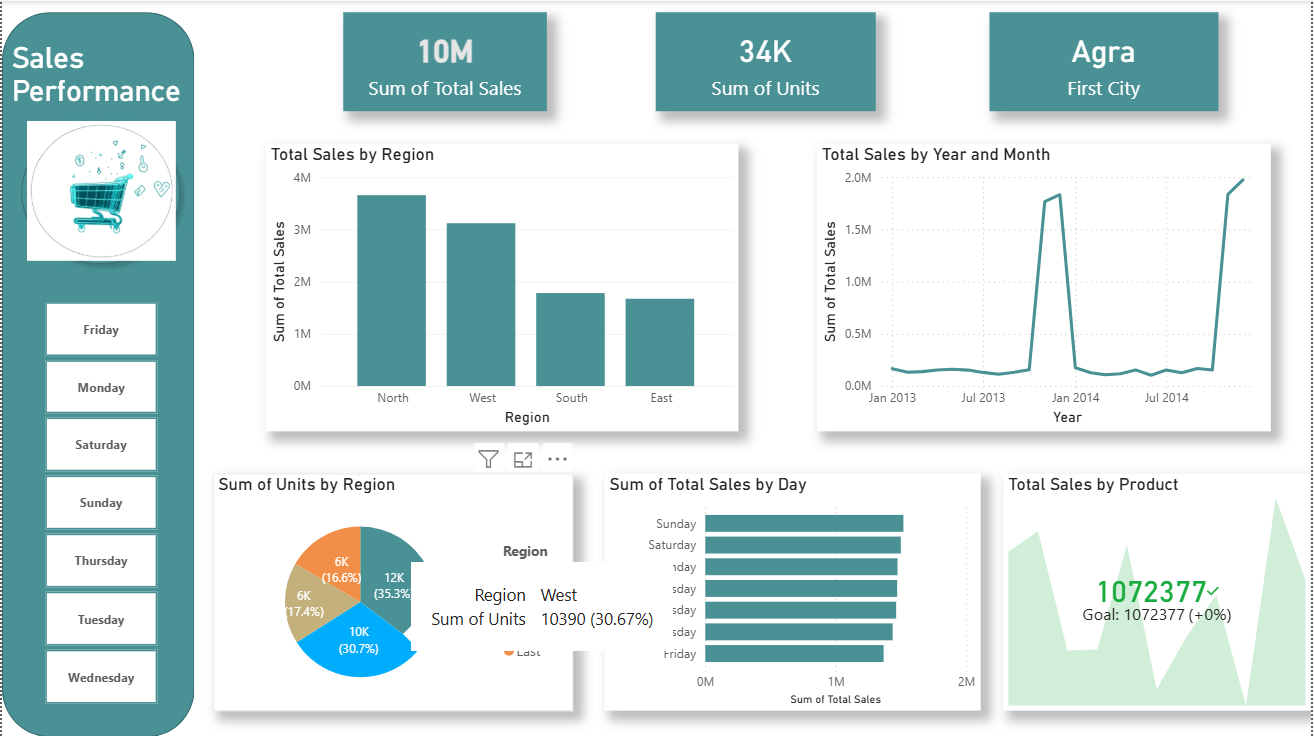

The dashboard page shown, as its layout file describes it:
{"tool":"powerbi","page":{"name":"Page 2","canvas":[1280,720],"ordinal":1},"visuals":[{"type":"columnChart","title":" Total Sales by Region","fields":{"Category":["Sales Data.Region"],"Y":["Sum(Sales Data.Total Sales)"]},"box":[258,139.4,462.2,281.3],"z":0},{"type":"pieChart","fields":{"Y":["Sum(Sales Data.Units)"],"Category":["Sales Data.Region"]},"box":[199.3,462.2,352.2,232.3],"z":1000},{"type":"lineChart","title":"Total Sales by Year and Month","fields":{"Y":["Sum(Sales Data.Total Sales)"],"Category":["Sales Data.Date.Variation.Date Hierarchy.Year","Sales Data.Date.Variation.Date Hierarchy.Month"]},"box":[797.3,139.4,443.9,281.3],"z":2000},{"type":"clusteredBarChart","fields":{"Category":["Sales Data.Day"],"Y":["Sum(Sales Data.Total Sales)"]},"box":[580.8,462.2,368.1,232.3],"z":3000},{"type":"kpi","title":" Total Sales by Product","fields":{"Indicator":["Sum(Sales Data.Total Sales)"],"TrendLine":["Sales Data.Product"],"Goal":["Sum(Sales Data.Total Sales)"]},"box":[966,462.2,300.8,232.3],"z":4000},{"type":"card","fields":{"Values":["Sum(Sales Data.Total Sales)"]},"box":[333.8,11,199.3,96.6],"z":5000},{"type":"card","fields":{"Values":["Sum(Sales Data.Units)"]},"box":[639.5,11,215.2,96.6],"z":6000},{"type":"card","fields":{"Values":["Min(Sales Data.City)"]},"box":[966,11,223.8,96.6],"z":7000},{"type":"shape","box":[0,11,188.3,709.2],"z":8000},{"type":"slicer","title":"DAY","fields":{"Values":["Sales Data.Day"]},"box":[18.3,280,160.2,428],"z":9000},{"type":"shape","title":"Sales Performance","box":[9.8,37.9,173.6,228.7],"z":10000},{"type":"image","box":[24.5,117.4,145.5,137],"z":11000}]}

Visuals, with their boxes in screenshot pixels (x1, y1, x2, y2), scaled from the page's 1280x720 canvas onto the 1314x736 screenshot:
" Total Sales by Region" columnChart: bbox=(265, 142, 739, 430)
pieChart - Sum(Sales Data.Units) x Sales Data.Region: bbox=(205, 472, 566, 710)
"Total Sales by Year and Month" lineChart: bbox=(818, 142, 1274, 430)
clusteredBarChart - Sales Data.Day x Sum(Sales Data.Total Sales): bbox=(596, 472, 974, 710)
" Total Sales by Product" kpi: bbox=(992, 472, 1300, 710)
card - Sum(Sales Data.Total Sales): bbox=(343, 11, 547, 110)
card - Sum(Sales Data.Units): bbox=(656, 11, 877, 110)
card - Min(Sales Data.City): bbox=(992, 11, 1221, 110)
shape: bbox=(0, 11, 193, 735)
"DAY" slicer: bbox=(19, 286, 183, 724)
"Sales Performance" shape: bbox=(10, 39, 188, 273)
image: bbox=(25, 120, 175, 260)
